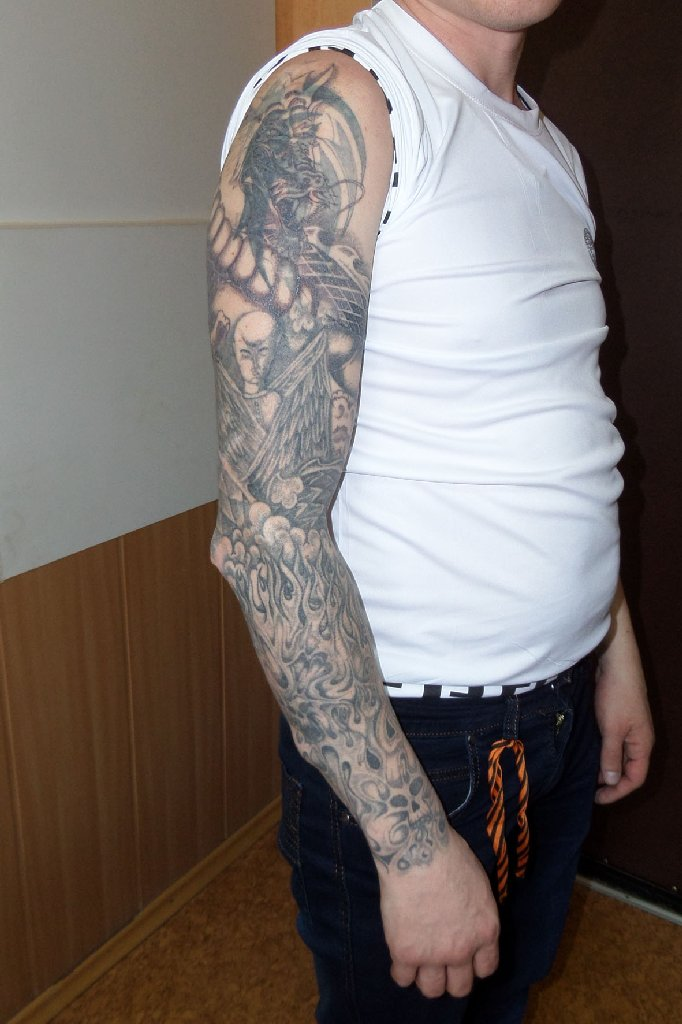tatu1_angel: (197, 294, 356, 512)
tatu7_zmeya: (233, 76, 380, 309)
